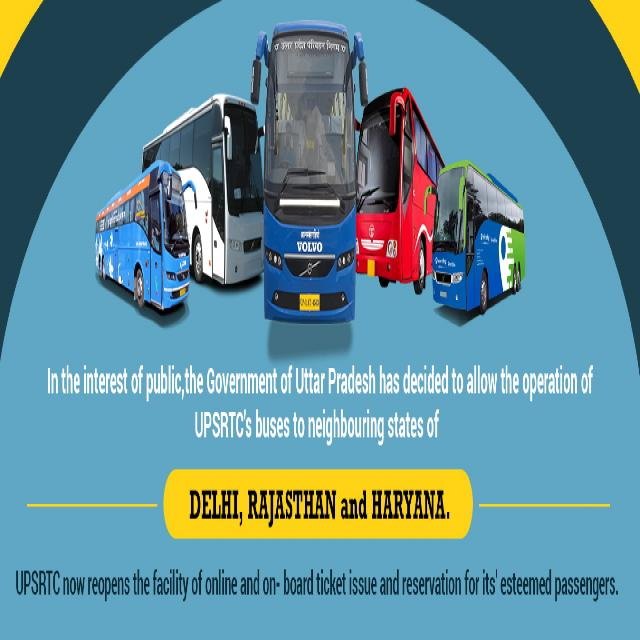bus: (141, 99, 264, 292), (351, 84, 446, 290), (424, 162, 526, 314), (97, 166, 194, 318)
